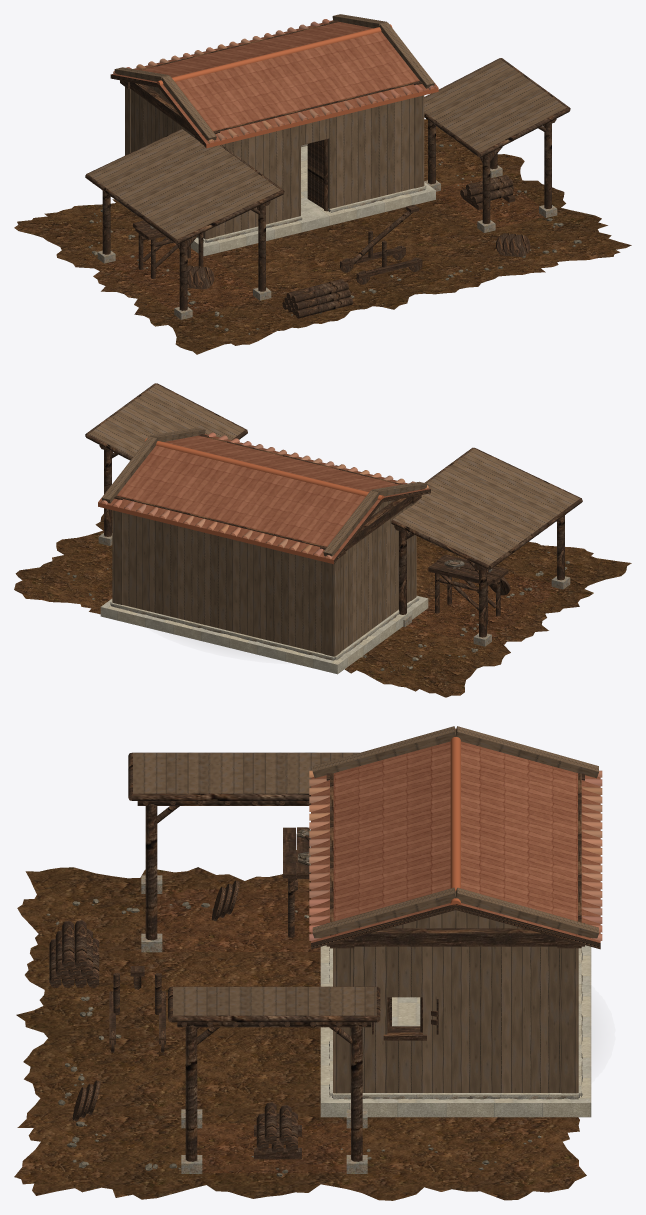
File: siegeworkshop.glb
The picture shows the model from 3 angles, top to bottom: view 1: azimuth 30°, elevation 25°; view 2: azimuth 150°, elevation 25°; view 3: azimuth 270°, elevation 25°; orthographic projection. The views are drawn at different scales.
Parts seen in each view (by area): view 1: part_1, part_11, part_15, part_7, part_6, part_10, part_5, part_16, part_4, part_17, part_2; view 2: part_6, part_11, part_1, part_15, part_7, part_5, part_10, part_16, part_17, part_4; view 3: part_1, part_15, part_6, part_7, part_11, part_10, part_5, part_17, part_4, part_16, part_2.
Part boxes in pixels (x1=…): part_1: x1=14, y1=119, x2=631, y2=354; part_11: x1=88, y1=14, x2=568, y2=239; part_15: x1=111, y1=20, x2=437, y2=144; part_7: x1=85, y1=20, x2=570, y2=318; part_6: x1=125, y1=85, x2=424, y2=239; part_10: x1=106, y1=176, x2=543, y2=315; part_5: x1=191, y1=144, x2=435, y2=256; part_16: x1=157, y1=24, x2=438, y2=148; part_4: x1=97, y1=144, x2=557, y2=319; part_17: x1=113, y1=19, x2=435, y2=143; part_2: x1=88, y1=144, x2=581, y2=334; part_6: x1=112, y1=500, x2=416, y2=656; part_11: x1=87, y1=383, x2=579, y2=564; part_1: x1=14, y1=510, x2=631, y2=697; part_15: x1=98, y1=434, x2=429, y2=559; part_7: x1=85, y1=383, x2=582, y2=637; part_5: x1=100, y1=595, x2=428, y2=674; part_10: x1=407, y1=573, x2=560, y2=642; part_16: x1=98, y1=438, x2=384, y2=564; part_17: x1=100, y1=432, x2=428, y2=559; part_4: x1=98, y1=533, x2=570, y2=660; part_1: x1=14, y1=867, x2=586, y2=1200; part_15: x1=311, y1=741, x2=600, y2=942; part_6: x1=333, y1=910, x2=578, y2=1093; part_7: x1=49, y1=752, x2=600, y2=1161; part_11: x1=133, y1=726, x2=598, y2=1015; part_10: x1=157, y1=889, x2=350, y2=1173; part_5: x1=320, y1=945, x2=591, y2=1117; part_17: x1=309, y1=770, x2=602, y2=940; part_4: x1=141, y1=875, x2=582, y2=1173; part_16: x1=450, y1=728, x2=460, y2=905; part_2: x1=46, y1=899, x2=541, y2=1176.
Bounding box in the file's own units: 9.13 × 2.87 × 7.12.
Materials: 18 (14 with a texture image).
